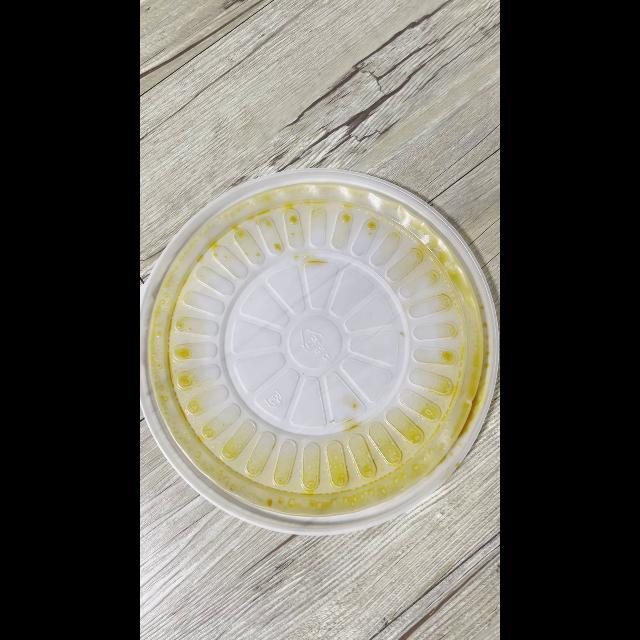dirty: (145, 172, 495, 528)
